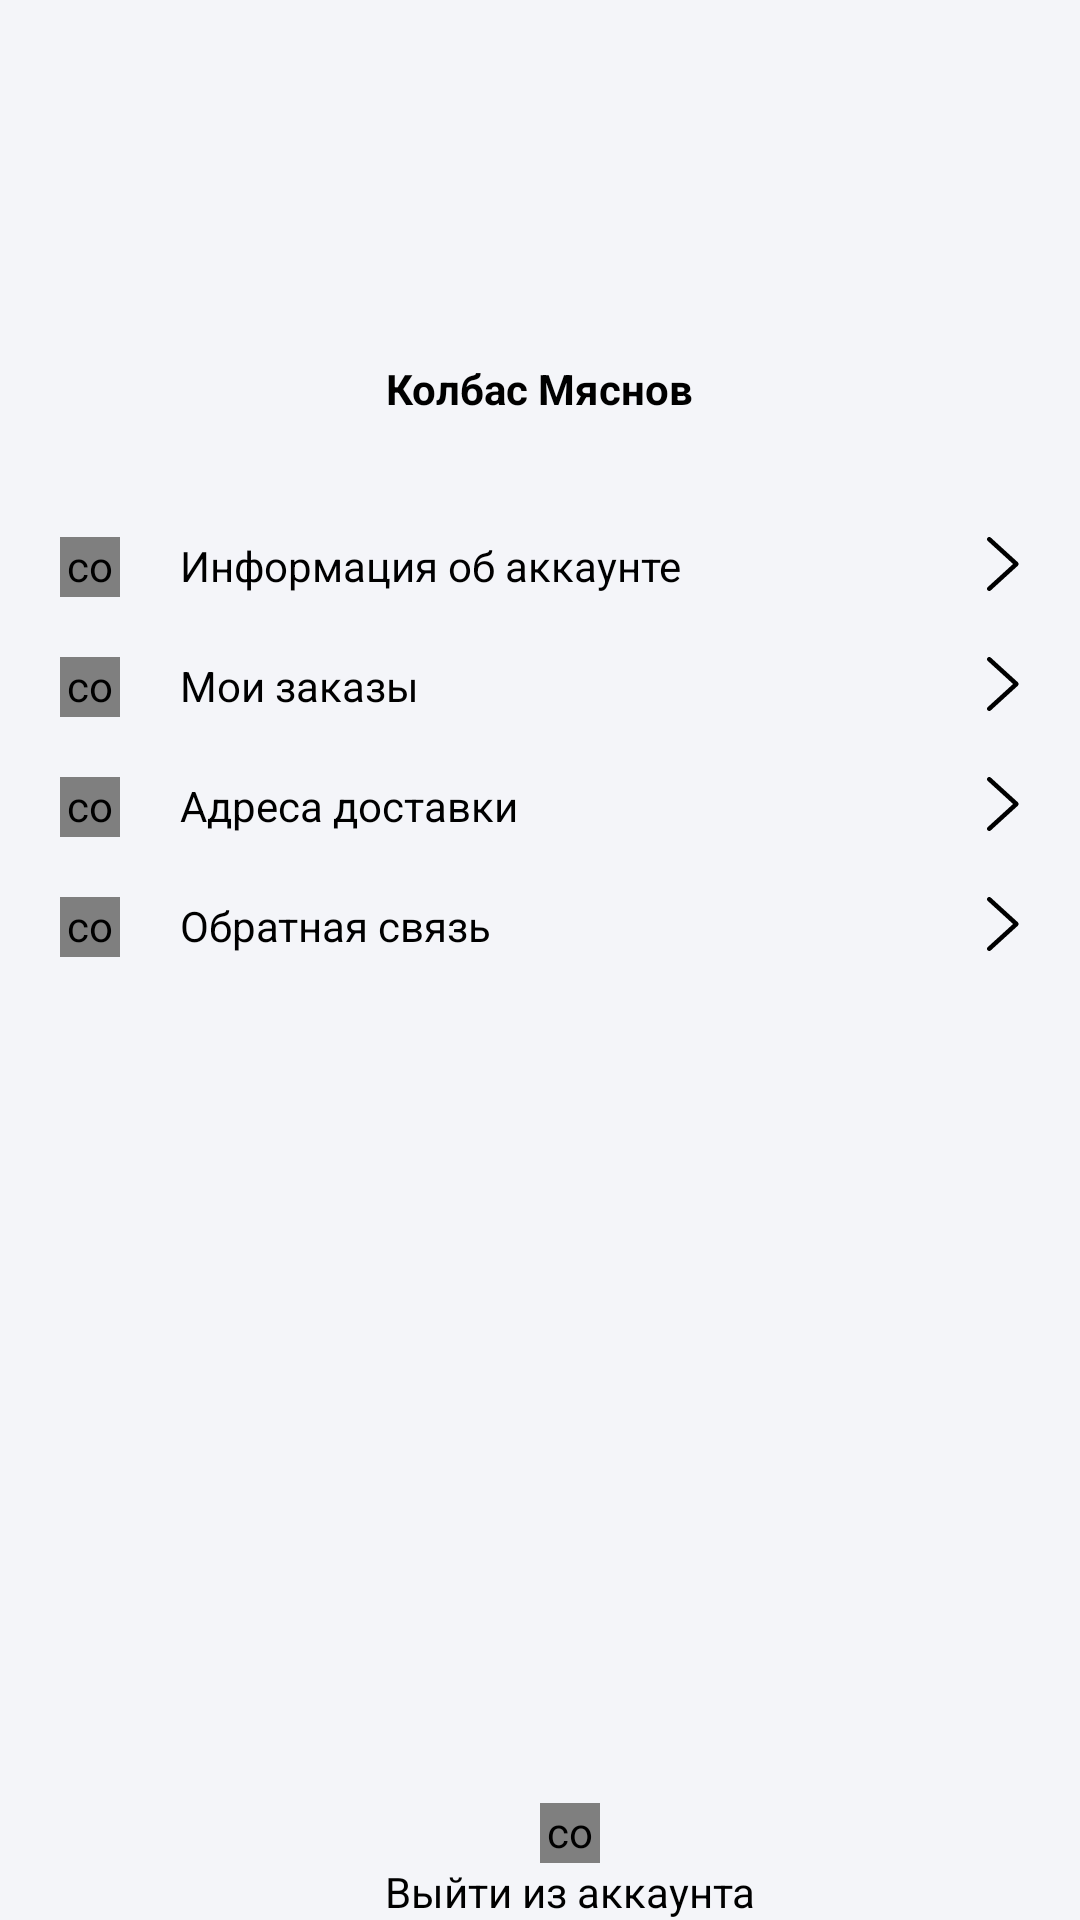

Icon bounding boxes for this 1080px×1920px phone screenshot, format (left=x1, top=y1, right=x2, bottom=y2):
account more: (left=987, top=537, right=1019, bottom=591), (left=987, top=657, right=1019, bottom=711), (left=987, top=777, right=1019, bottom=831), (left=987, top=897, right=1019, bottom=951)
